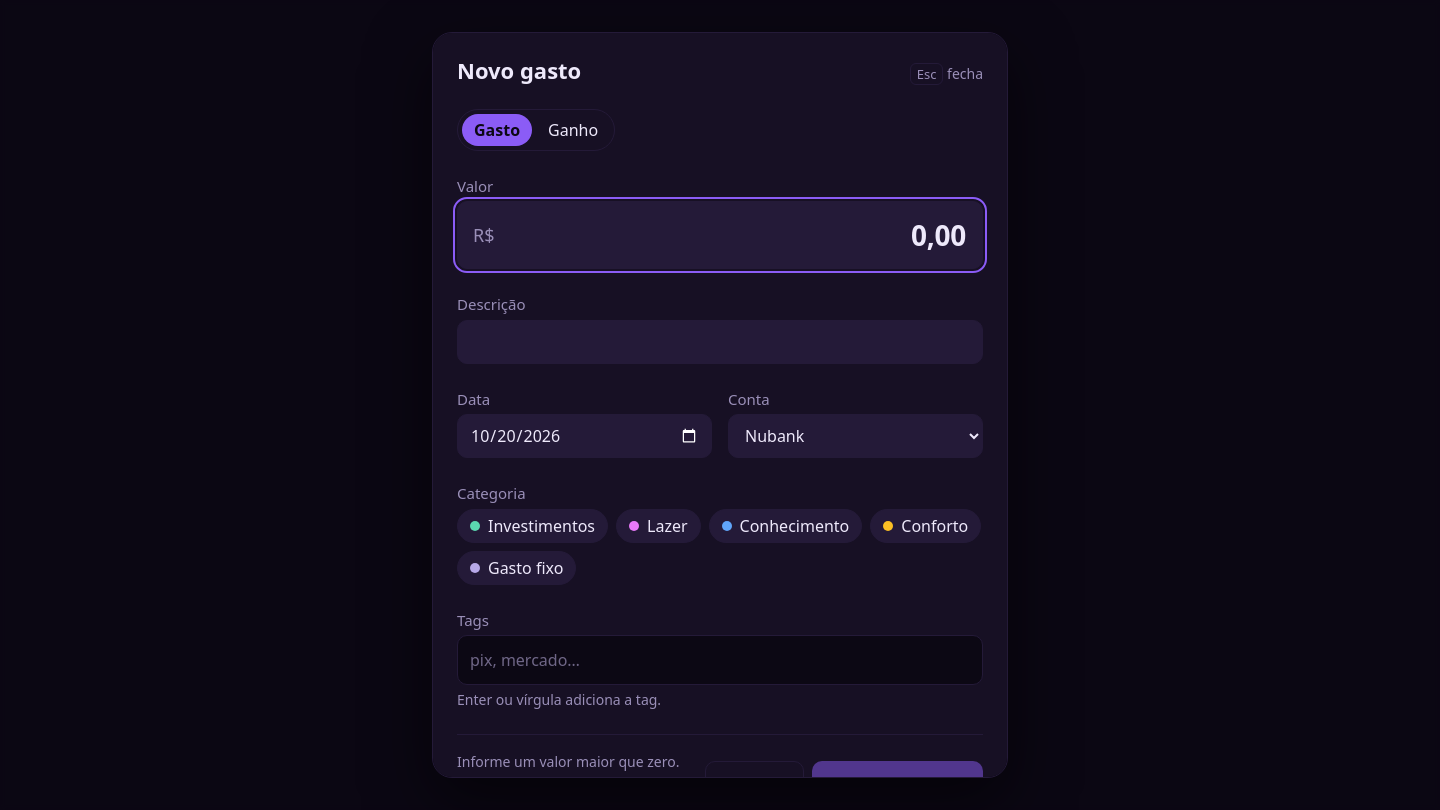
Scenario: CompositorDeGasto em modo ganho › abre em Gasto e o seletor troca o título, esconde a categoria e muda o botão
Expected: the dialog "Novo gasto" is shown, [432, 32, 1008, 778]
Expected: the radio button labelled "Conforto" is shown, [870, 508, 981, 542]
Click the button "Ganho": {"x": 573, "y": 130} [536, 114, 610, 146]
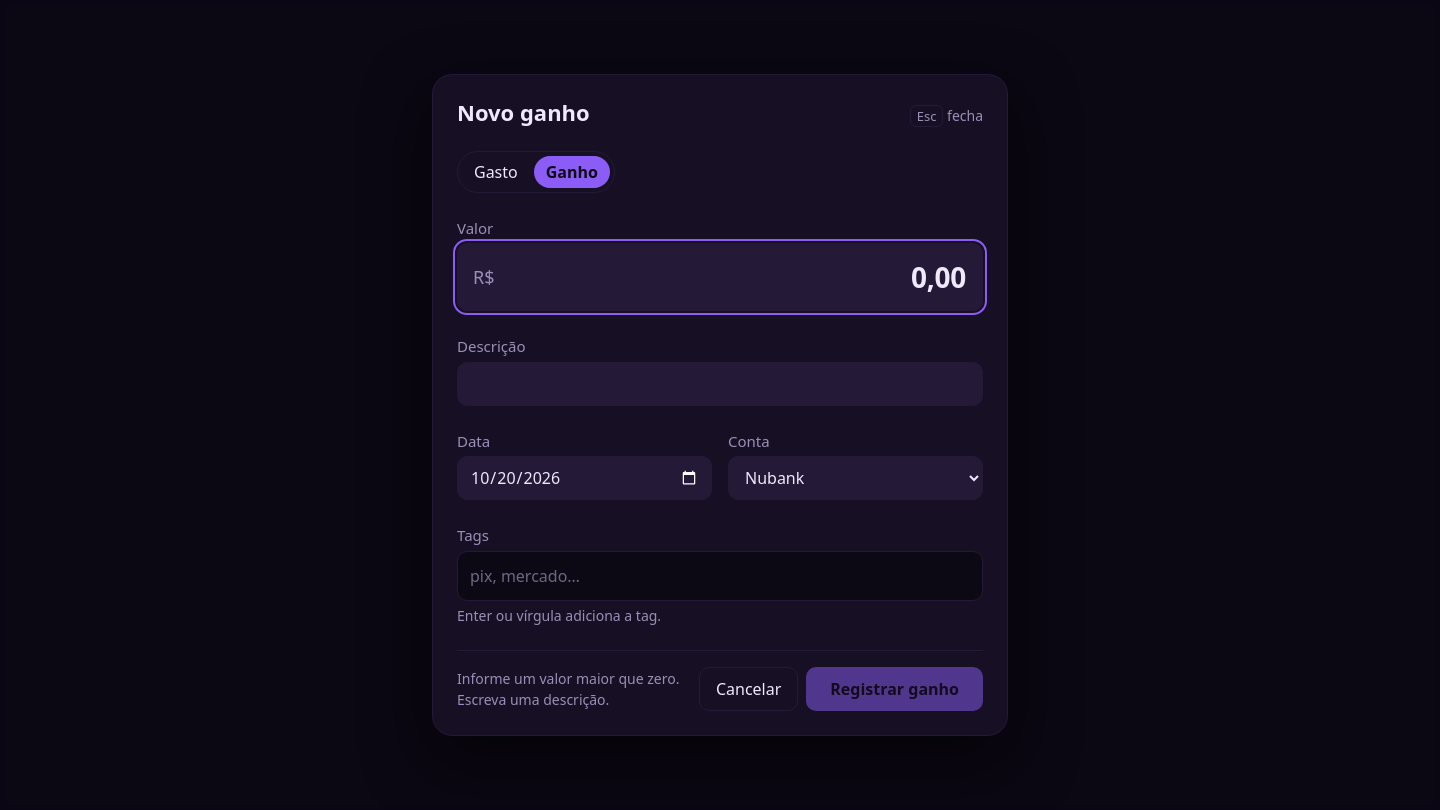
Expected: the dialog "Novo ganho" is shown, [432, 74, 1008, 736]
Expected: the text "Categoria" is gone
Expected: the button "Registrar ganho" is shown, [806, 667, 983, 711]
